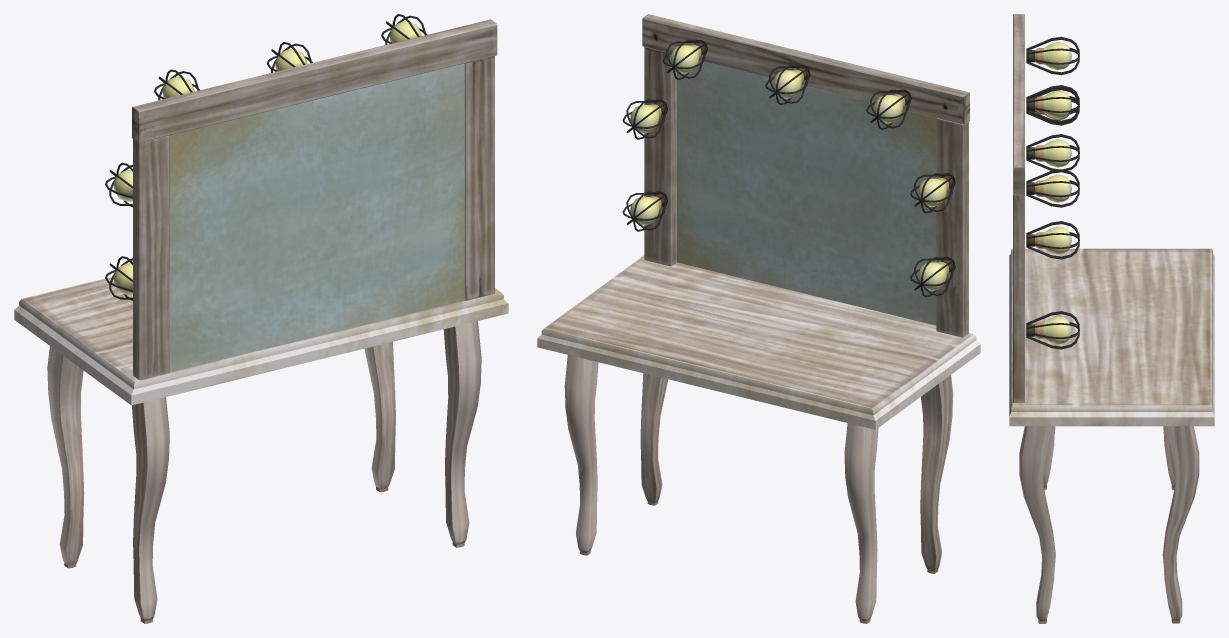
The model's file is Vanity.fbx.
The picture shows the model from 3 angles, left to right: view 1: azimuth 30°, elevation 25°; view 2: azimuth 150°, elevation 25°; view 3: azimuth 270°, elevation 25°; orthographic projection. The views are drawn at different scales.
Parts seen in each view (by area): view 1: Mirror, Mirror_Desk, MirrorFrame_Top, MirrorFrame_Right, MirrorFrame_Left, FancyLeg_Basic_3, FancyLeg_Basic_4, FancyLeg_Basic_2, FancyLeg_Basic_1; view 2: Mirror, Mirror_Desk, MirrorFrame_Top, MirrorFrame_Right, MirrorFrame_Left, FancyLeg_Basic_2, FancyLeg_Basic_1, FancyLeg_Basic_4, FancyLeg_Basic_3, Cage_Light_4, Cage_Light1_7, Cage_Light_2 (+11 smaller); view 3: Mirror_Desk, FancyLeg_Basic_1, FancyLeg_Basic_3, MirrorFrame_Left, MirrorFrame_Top, Cage_Light_5, Cage_Light1_7, Cage_Light_3, Cage_Light_4, Cage_Light_2, Cage_Light_1, Cage_Light_Bar_5 (+8 smaller).
Part boxes in pixels (bbox=[...]): Mirror: bbox=[169, 63, 464, 372]; Mirror_Desk: bbox=[14, 277, 508, 405]; MirrorFrame_Top: bbox=[132, 19, 497, 142]; MirrorFrame_Right: bbox=[133, 135, 169, 380]; MirrorFrame_Left: bbox=[464, 56, 494, 300]; FancyLeg_Basic_3: bbox=[443, 321, 481, 547]; FancyLeg_Basic_4: bbox=[132, 397, 169, 623]; FancyLeg_Basic_2: bbox=[47, 346, 84, 568]; FancyLeg_Basic_1: bbox=[364, 342, 395, 492]; Mirror: bbox=[677, 60, 936, 325]; Mirror_Desk: bbox=[537, 255, 980, 429]; MirrorFrame_Top: bbox=[642, 14, 969, 124]; MirrorFrame_Right: bbox=[936, 118, 968, 337]; MirrorFrame_Left: bbox=[644, 47, 676, 266]; FancyLeg_Basic_2: bbox=[844, 423, 878, 623]; FancyLeg_Basic_1: bbox=[564, 355, 598, 555]; FancyLeg_Basic_4: bbox=[920, 375, 953, 573]; FancyLeg_Basic_3: bbox=[640, 373, 668, 505]; Cage_Light_4: bbox=[772, 65, 810, 98]; Cage_Light1_7: bbox=[917, 257, 955, 290]; Cage_Light_2: bbox=[630, 99, 667, 133]; Mirror_Desk: bbox=[1009, 248, 1214, 426]; FancyLeg_Basic_1: bbox=[1162, 426, 1199, 623]; FancyLeg_Basic_3: bbox=[1019, 426, 1055, 623]; MirrorFrame_Left: bbox=[1013, 195, 1024, 402]; MirrorFrame_Top: bbox=[1013, 14, 1024, 195]; Cage_Light_5: bbox=[1026, 42, 1071, 70]; Cage_Light1_7: bbox=[1026, 174, 1071, 202]; Cage_Light_3: bbox=[1026, 139, 1071, 167]; Cage_Light_4: bbox=[1026, 90, 1071, 118]; Cage_Light_2: bbox=[1026, 226, 1071, 254]; Cage_Light_1: bbox=[1026, 316, 1071, 344]; Cage_Light_Bar_5: bbox=[1026, 36, 1079, 75].
Size of the model in its own units: 587 by 792 by 315.
